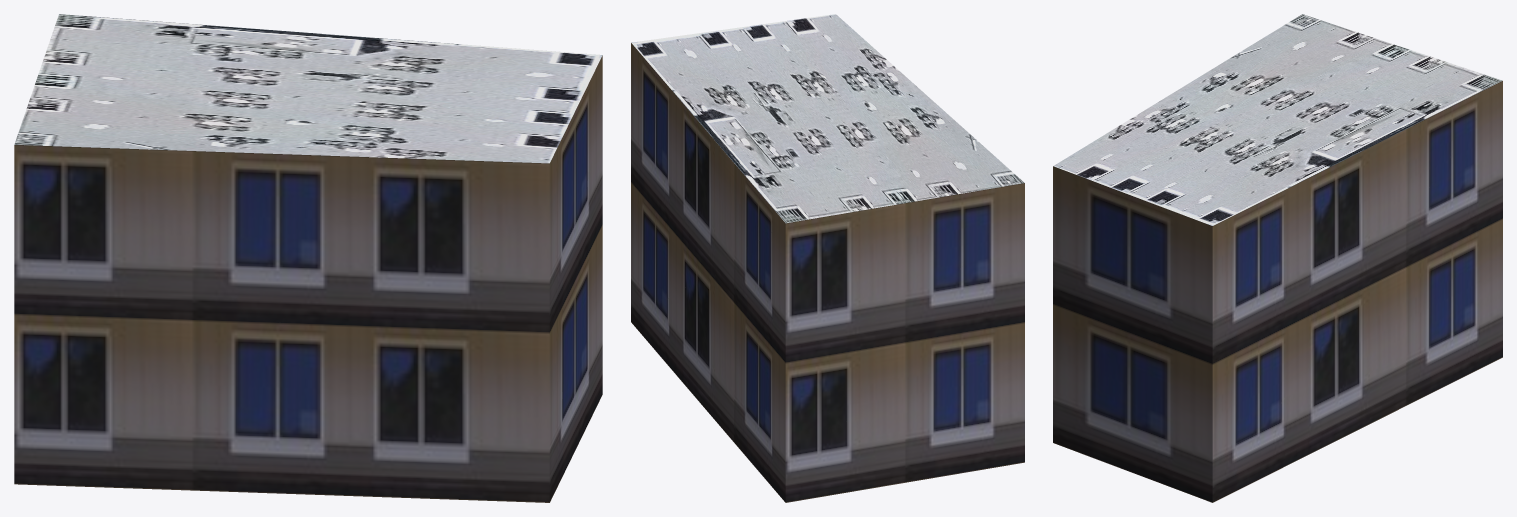
The model's file is ResTex__2342.fbx.
3 views of the same model, side by side, from view 1: azimuth 30°, elevation 25°; view 2: azimuth 150°, elevation 25°; view 3: azimuth 270°, elevation 25° (orthographic). The views are drawn at different scales.
Visible parts, largest first — view 1: CityEngineMaterial_5_m, CityEngineMaterial_4_m; view 2: CityEngineMaterial_5_m, CityEngineMaterial_4_m; view 3: CityEngineMaterial_5_m, CityEngineMaterial_4_m.
Boxes of the visible parts, bbox=[...] form: CityEngineMaterial_5_m: bbox=[14, 55, 602, 502]; CityEngineMaterial_4_m: bbox=[14, 14, 602, 163]; CityEngineMaterial_5_m: bbox=[631, 43, 1024, 502]; CityEngineMaterial_4_m: bbox=[631, 14, 1024, 223]; CityEngineMaterial_5_m: bbox=[1053, 81, 1502, 502]; CityEngineMaterial_4_m: bbox=[1053, 14, 1502, 225].
Bounding box in the file's own units: 9.86 × 6 × 8.83.
2 materials, 2 textured.
